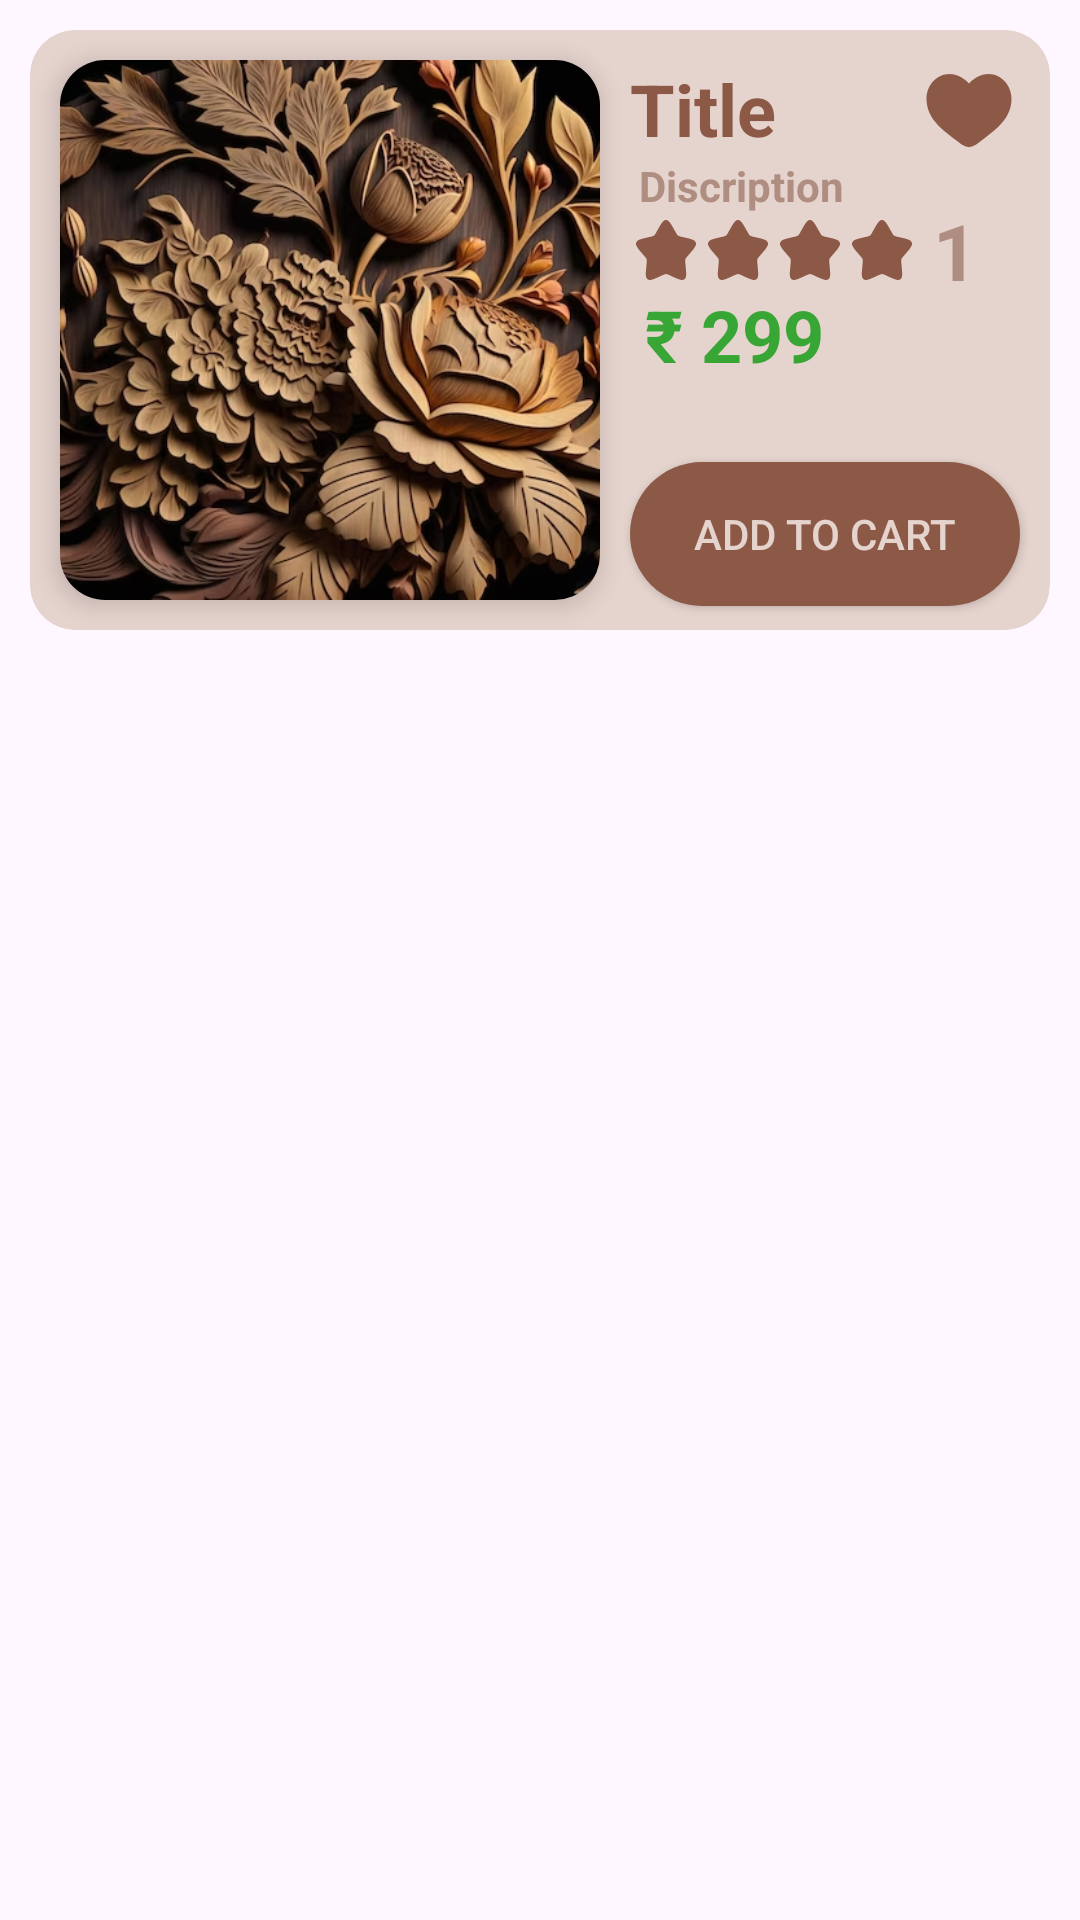

Screen size 1080px x 1920px. Icon name, then its box in pixels as (x1, y1, x2, y2):
heart: (926, 74, 1012, 147)
star: (636, 220, 696, 280), (708, 220, 768, 280), (780, 220, 840, 280), (852, 220, 912, 280)
